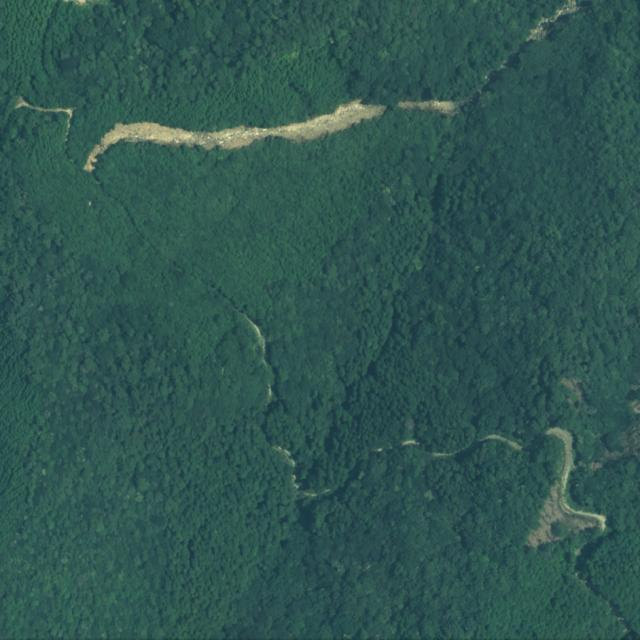landslide: (84, 99, 387, 171), (528, 428, 607, 548)
